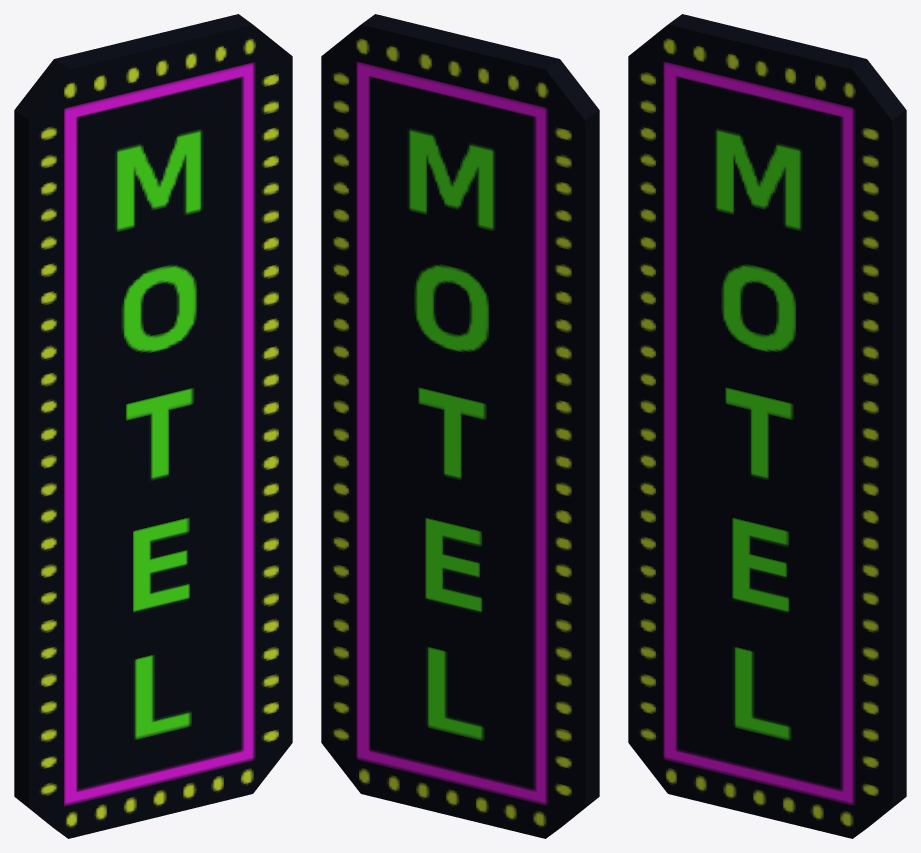
File: fbx_neon_motel.fbx
3 views of the same model, side by side, from view 1: azimuth 30°, elevation 25°; view 2: azimuth 150°, elevation 25°; view 3: azimuth 330°, elevation 25° (orthographic).
Visible parts, largest first — view 1: fbx_neon_motel; view 2: fbx_neon_motel; view 3: fbx_neon_motel.
Boxes of the visible parts, x1,y1,x2,y2 form: fbx_neon_motel: (14, 14, 292, 838); fbx_neon_motel: (321, 14, 599, 838); fbx_neon_motel: (628, 14, 906, 838).
Size of the model in its own units: 1.52 by 4.23 by 0.1443.
1 material, 1 textured.
